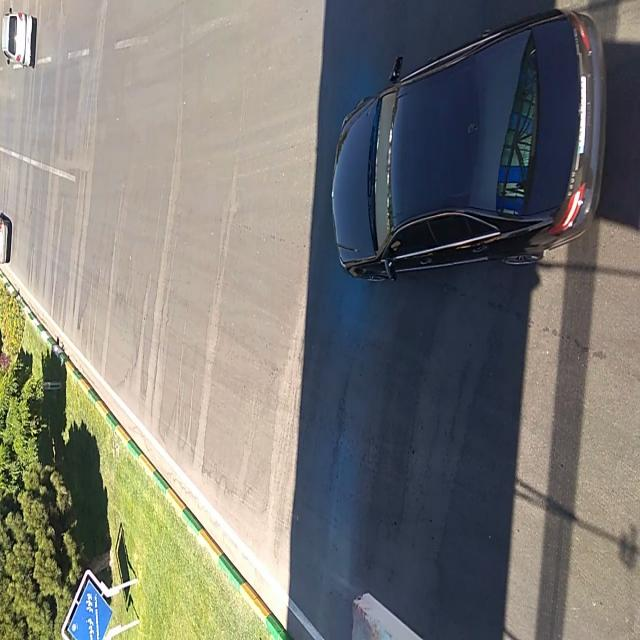car: (333, 8, 608, 276), (3, 10, 35, 70)
